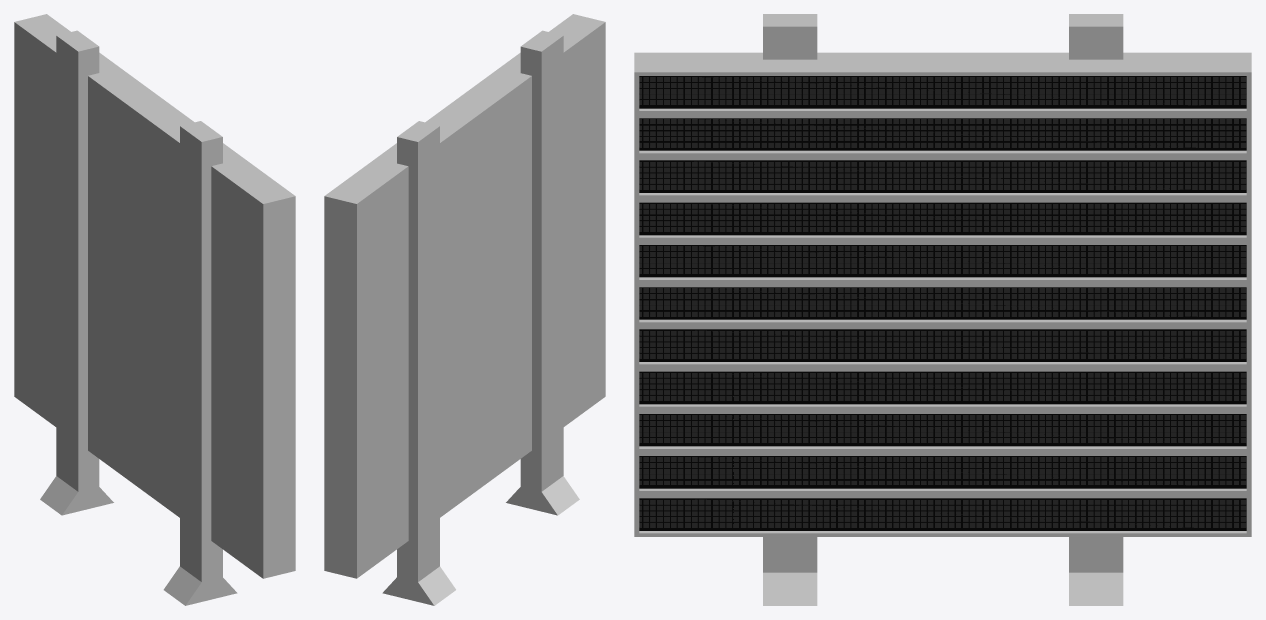
The model's file is ScoreBoard.fbx.
The picture shows the model from 3 angles, left to right: view 1: azimuth 30°, elevation 25°; view 2: azimuth 150°, elevation 25°; view 3: azimuth 270°, elevation 25°; orthographic projection. The views are drawn at different scales.
Parts seen in each view (by area): view 1: ScoreBoard, ScoreBoardPole, ScoreBoardPole.001; view 2: ScoreBoard, ScoreBoardPole.001, ScoreBoardPole; view 3: ScoreBoard, ScoreBoardPole.001, ScoreBoardPole.
Part boxes in pixels (<box>): ScoreBoard: <box>14,14,295,578</box>; ScoreBoardPole: <box>40,30,113,515</box>; ScoreBoardPole.001: <box>163,121,237,605</box>; ScoreBoard: <box>324,14,605,578</box>; ScoreBoardPole.001: <box>506,30,579,515</box>; ScoreBoardPole: <box>382,121,455,605</box>; ScoreBoard: <box>634,52,1251,536</box>; ScoreBoardPole.001: <box>763,14,817,605</box>; ScoreBoardPole: <box>1069,14,1123,605</box>.
Bounding box in the file's own units: 54.76 × 411 × 403.
